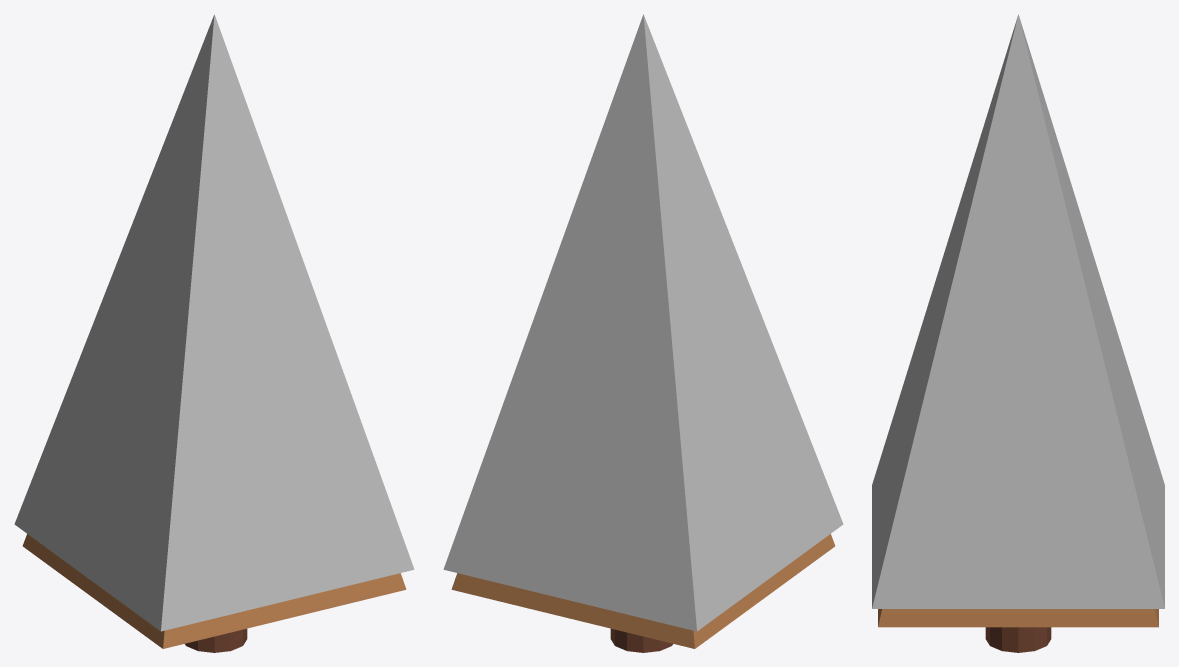
Rendered from Tree_36_winter_gradient_yellow_vc.fbx.
3 renders of one model, left to right at view 1: azimuth 30°, elevation 25°; view 2: azimuth 150°, elevation 25°; view 3: azimuth 270°, elevation 25°, orthographic.
Parts seen in each view (by area): view 1: Tree_36_winter_gradient_yellow_vc; view 2: Tree_36_winter_gradient_yellow_vc; view 3: Tree_36_winter_gradient_yellow_vc.
Part boxes in pixels (x1=…): Tree_36_winter_gradient_yellow_vc: x1=14, y1=14, x2=414, y2=652; Tree_36_winter_gradient_yellow_vc: x1=443, y1=14, x2=843, y2=652; Tree_36_winter_gradient_yellow_vc: x1=872, y1=14, x2=1164, y2=652.
Size of the model in its own units: 71.97 by 169 by 71.97.
